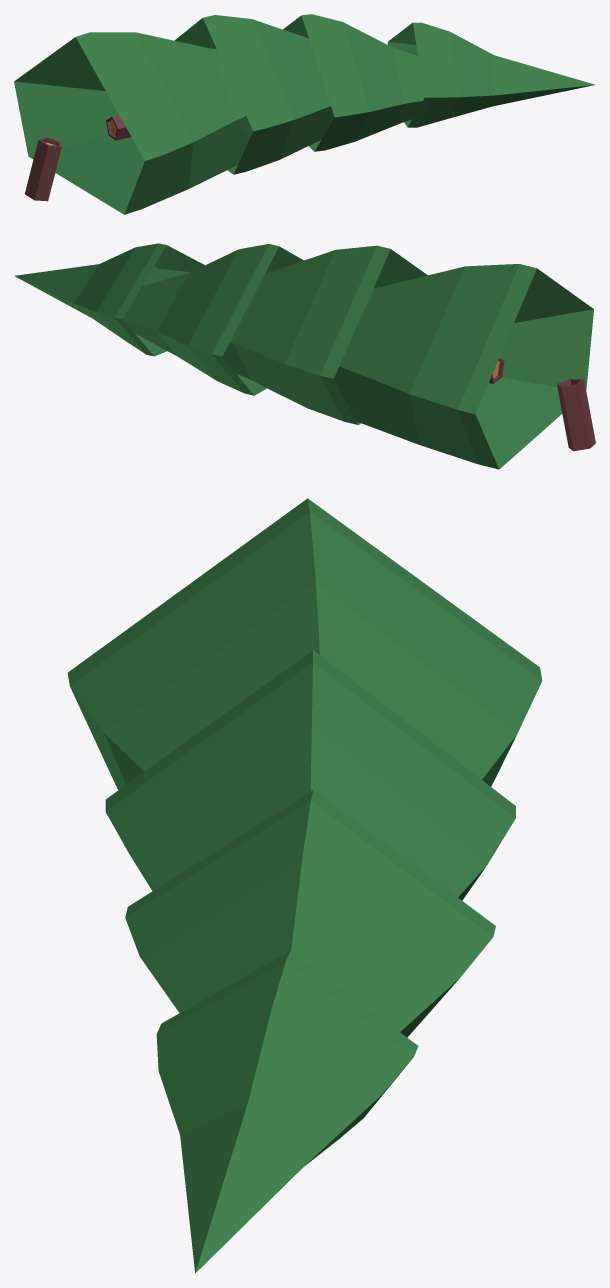
Rendered from tree_3_fallen.fbx.
3 views of the same model, one above another, from view 1: azimuth 30°, elevation 25°; view 2: azimuth 150°, elevation 25°; view 3: azimuth 270°, elevation 25° (orthographic). The views are drawn at different scales.
Visible parts, largest first — view 1: Cone, Cone.001, Cone.002, Cone.003, Cylinder.001, Cylinder; view 2: Cone, Cone.001, Cone.002, Cone.003, Cylinder.001; view 3: Cone, Cone.001, Cone.002, Cone.003.
Part boxes in pixels (x1,y1,x2,y2): Cone: [14, 32, 253, 214]; Cone.001: [175, 15, 334, 174]; Cone.002: [283, 14, 424, 151]; Cone.003: [387, 22, 595, 127]; Cylinder.001: [25, 137, 61, 201]; Cylinder: [106, 115, 131, 140]; Cone: [334, 264, 593, 469]; Cone.001: [222, 245, 427, 424]; Cone.002: [122, 244, 303, 395]; Cone.003: [14, 243, 204, 356]; Cylinder.001: [557, 379, 595, 451]; Cone: [67, 498, 542, 790]; Cone.001: [105, 650, 515, 900]; Cone.002: [125, 790, 495, 1037]; Cone.003: [156, 951, 418, 1273].
Bounding box in the file's own units: 187 × 50.43 × 71.08.
